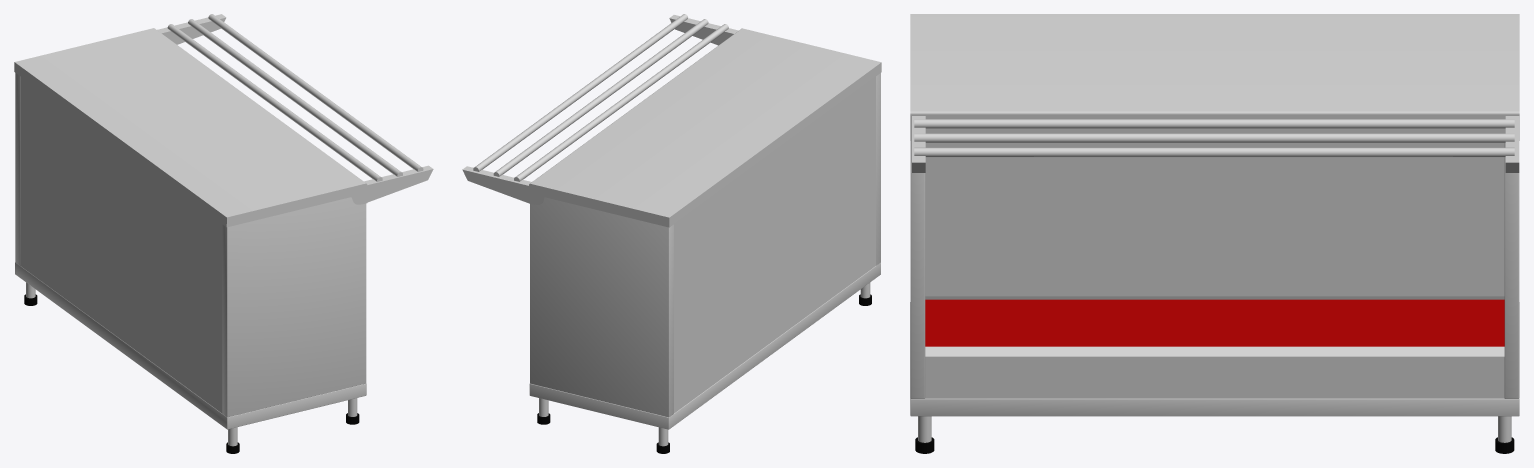
File: KitchenRazdacha01_01b.FBX
The picture shows the model from 3 angles, left to right: view 1: azimuth 30°, elevation 25°; view 2: azimuth 150°, elevation 25°; view 3: azimuth 270°, elevation 25°; orthographic projection. The views are drawn at different scales.
Visible parts, largest first — view 1: Kitchen01b; view 2: Kitchen01b; view 3: Kitchen01b.
Part boxes in pixels (x1,y1,x2,y2): Kitchen01b: (14,14,433,453); Kitchen01b: (462,14,881,453); Kitchen01b: (910,14,1519,453).
Bounding box in the file's own units: 36.2 × 40.32 × 64.23.
